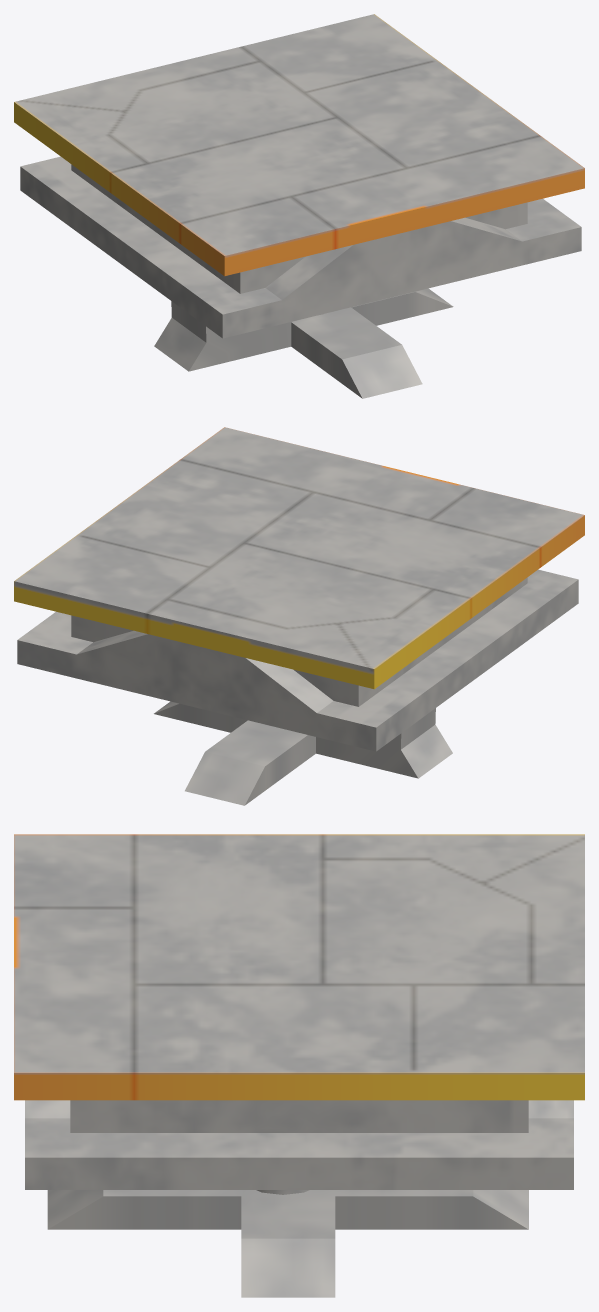
File: Pad_02_Base.fbx
3 renders of one model, top to bottom at view 1: azimuth 30°, elevation 25°; view 2: azimuth 150°, elevation 25°; view 3: azimuth 270°, elevation 25°, orthographic. The views are drawn at different scales.
Parts seen in each view (by area): view 1: Pad_02, Pad_02_Base; view 2: Pad_02, Pad_02_Base; view 3: Pad_02, Pad_02_Base.
Part boxes in pixels (left/top/right/bottom): Pad_02: left=14, top=14, right=584, bottom=338; Pad_02_Base: left=154, top=288, right=453, bottom=398; Pad_02: left=14, top=427, right=584, bottom=751; Pad_02_Base: left=154, top=701, right=452, bottom=805; Pad_02: left=14, top=834, right=584, bottom=1189; Pad_02_Base: left=47, top=1190, right=528, bottom=1297.
Bounding box in the file's own units: 20.09 × 10.02 × 20.28.
